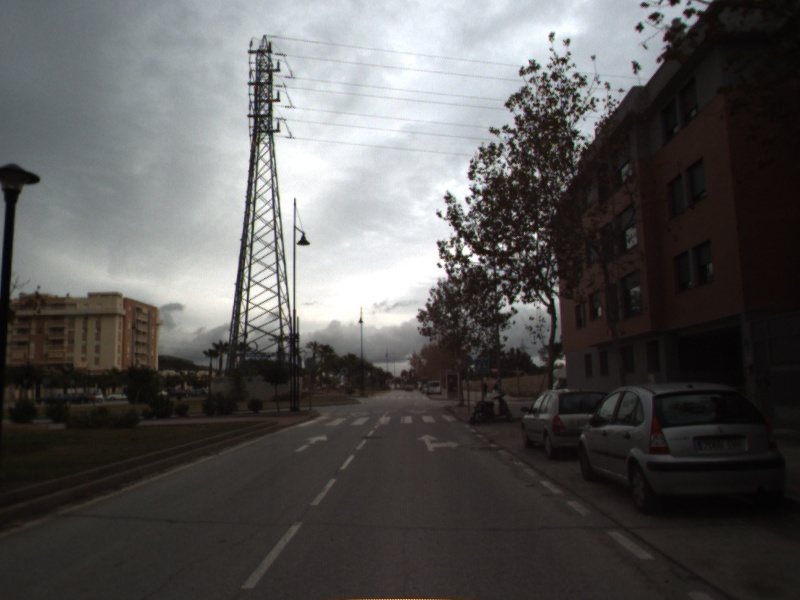STRAIGHT: (292, 431, 329, 454)
STRAIGHT_RIGHT: (414, 431, 462, 453)
